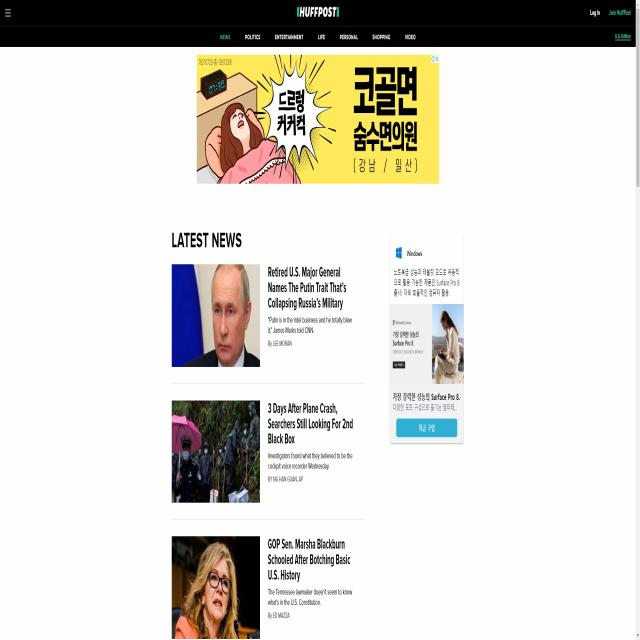tab-bar: (216, 28, 420, 44)
